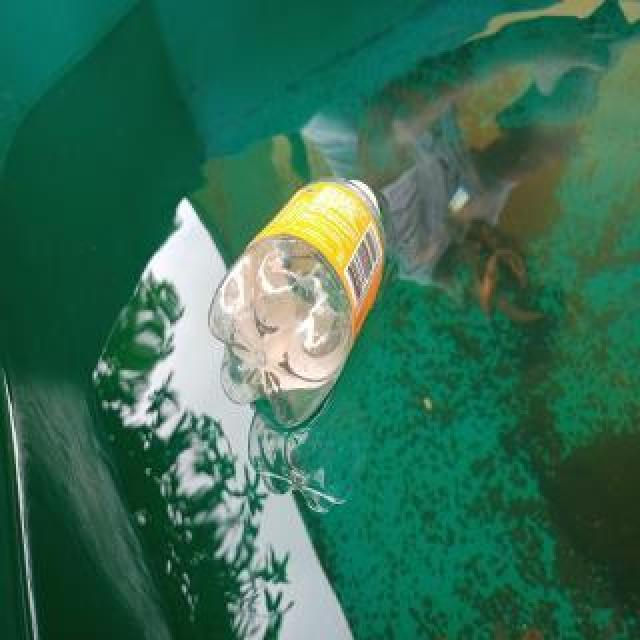bottle: (208, 177, 388, 429)
